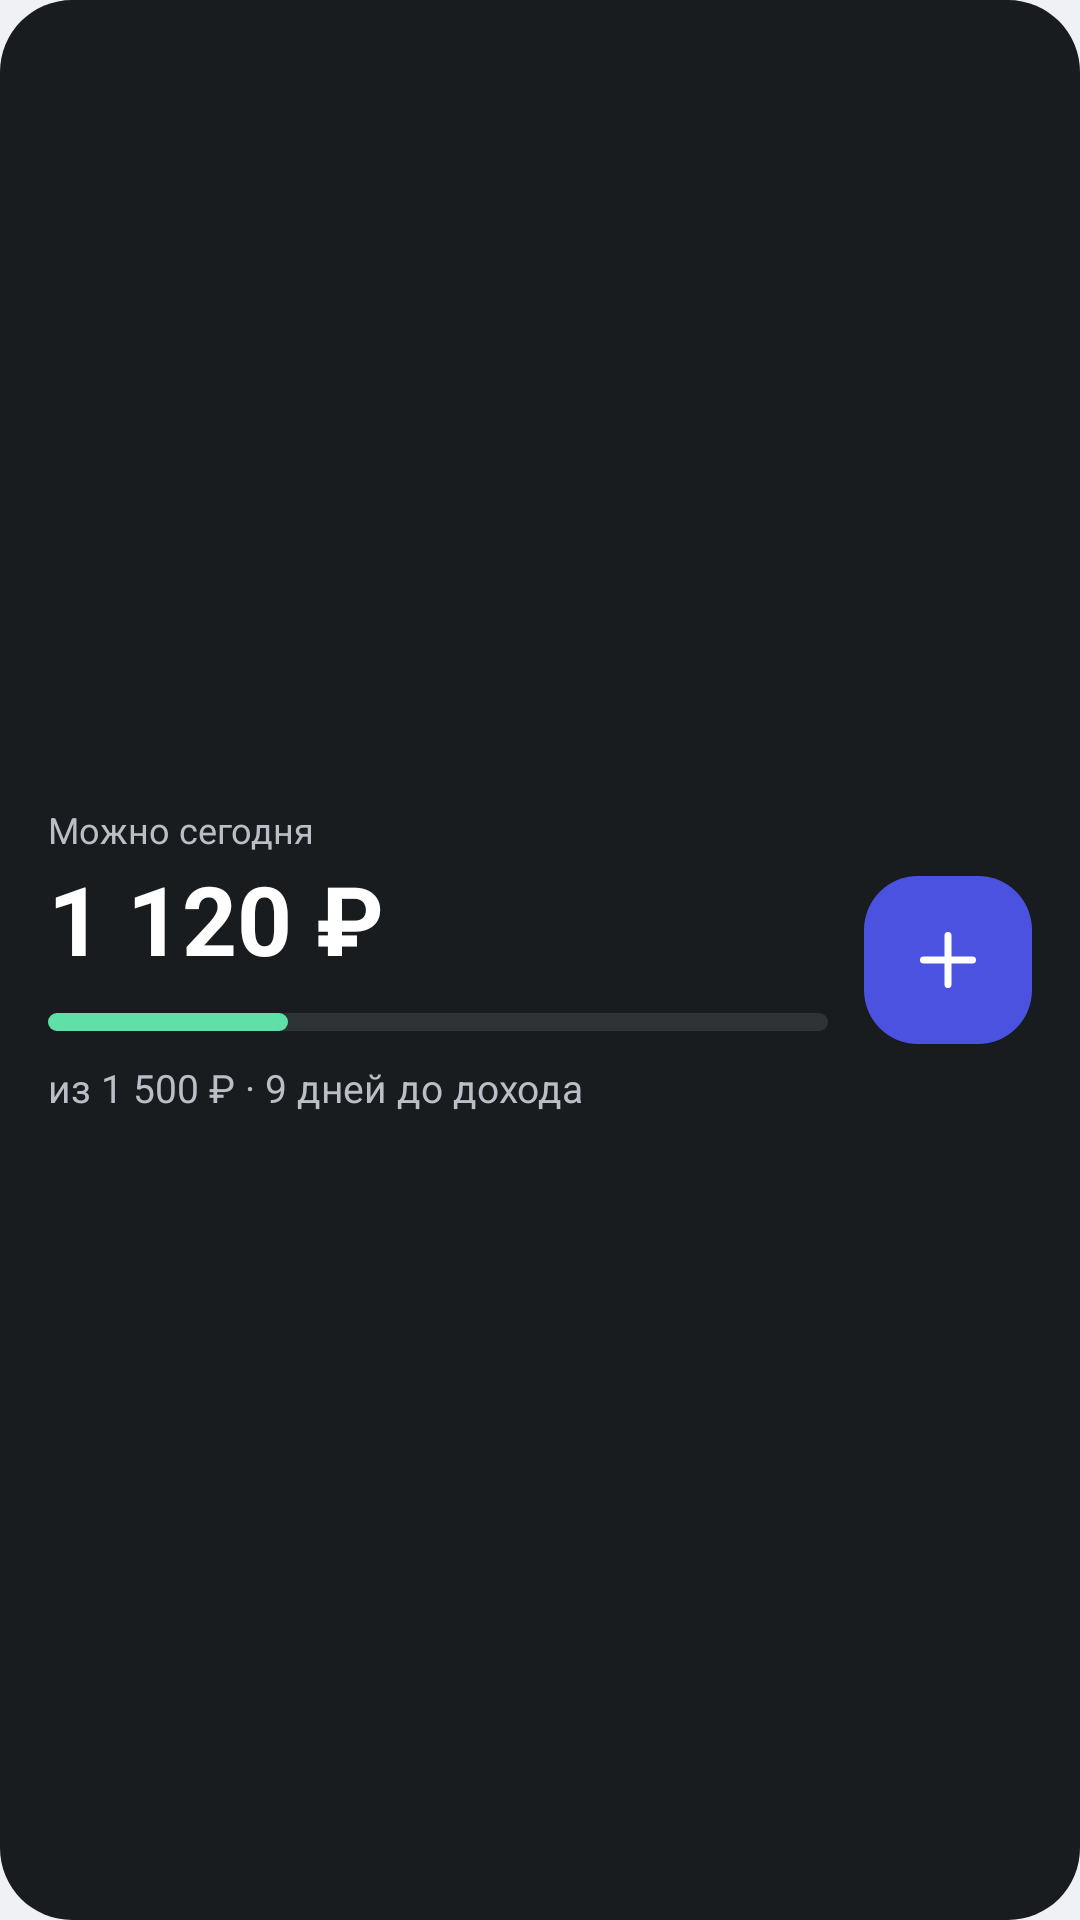

Screen size 1080 × 1920. Icon name, then its center in pixels as [x,y]:
widget add: [948,960]
